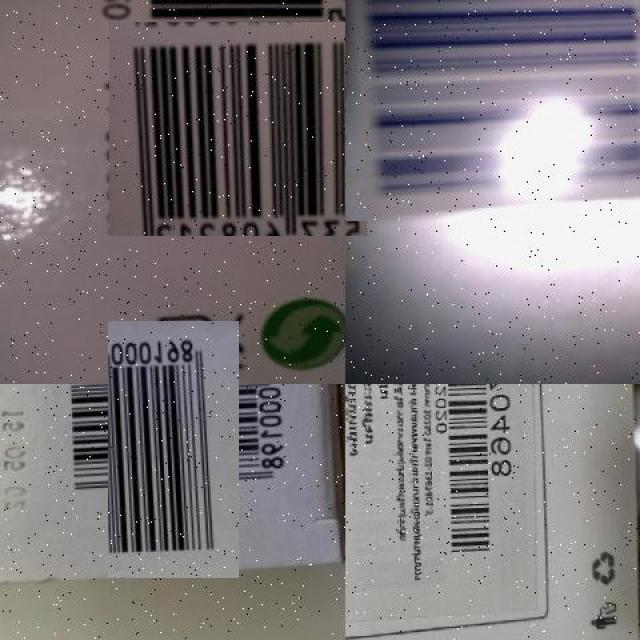Barcode: (345, 0, 639, 221), (120, 11, 356, 248), (77, 352, 271, 547), (433, 384, 515, 567)
